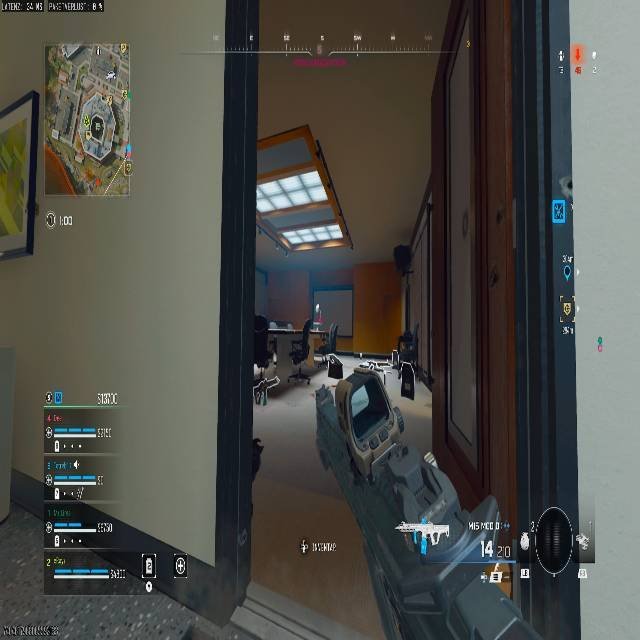player: (393, 330, 417, 399)
